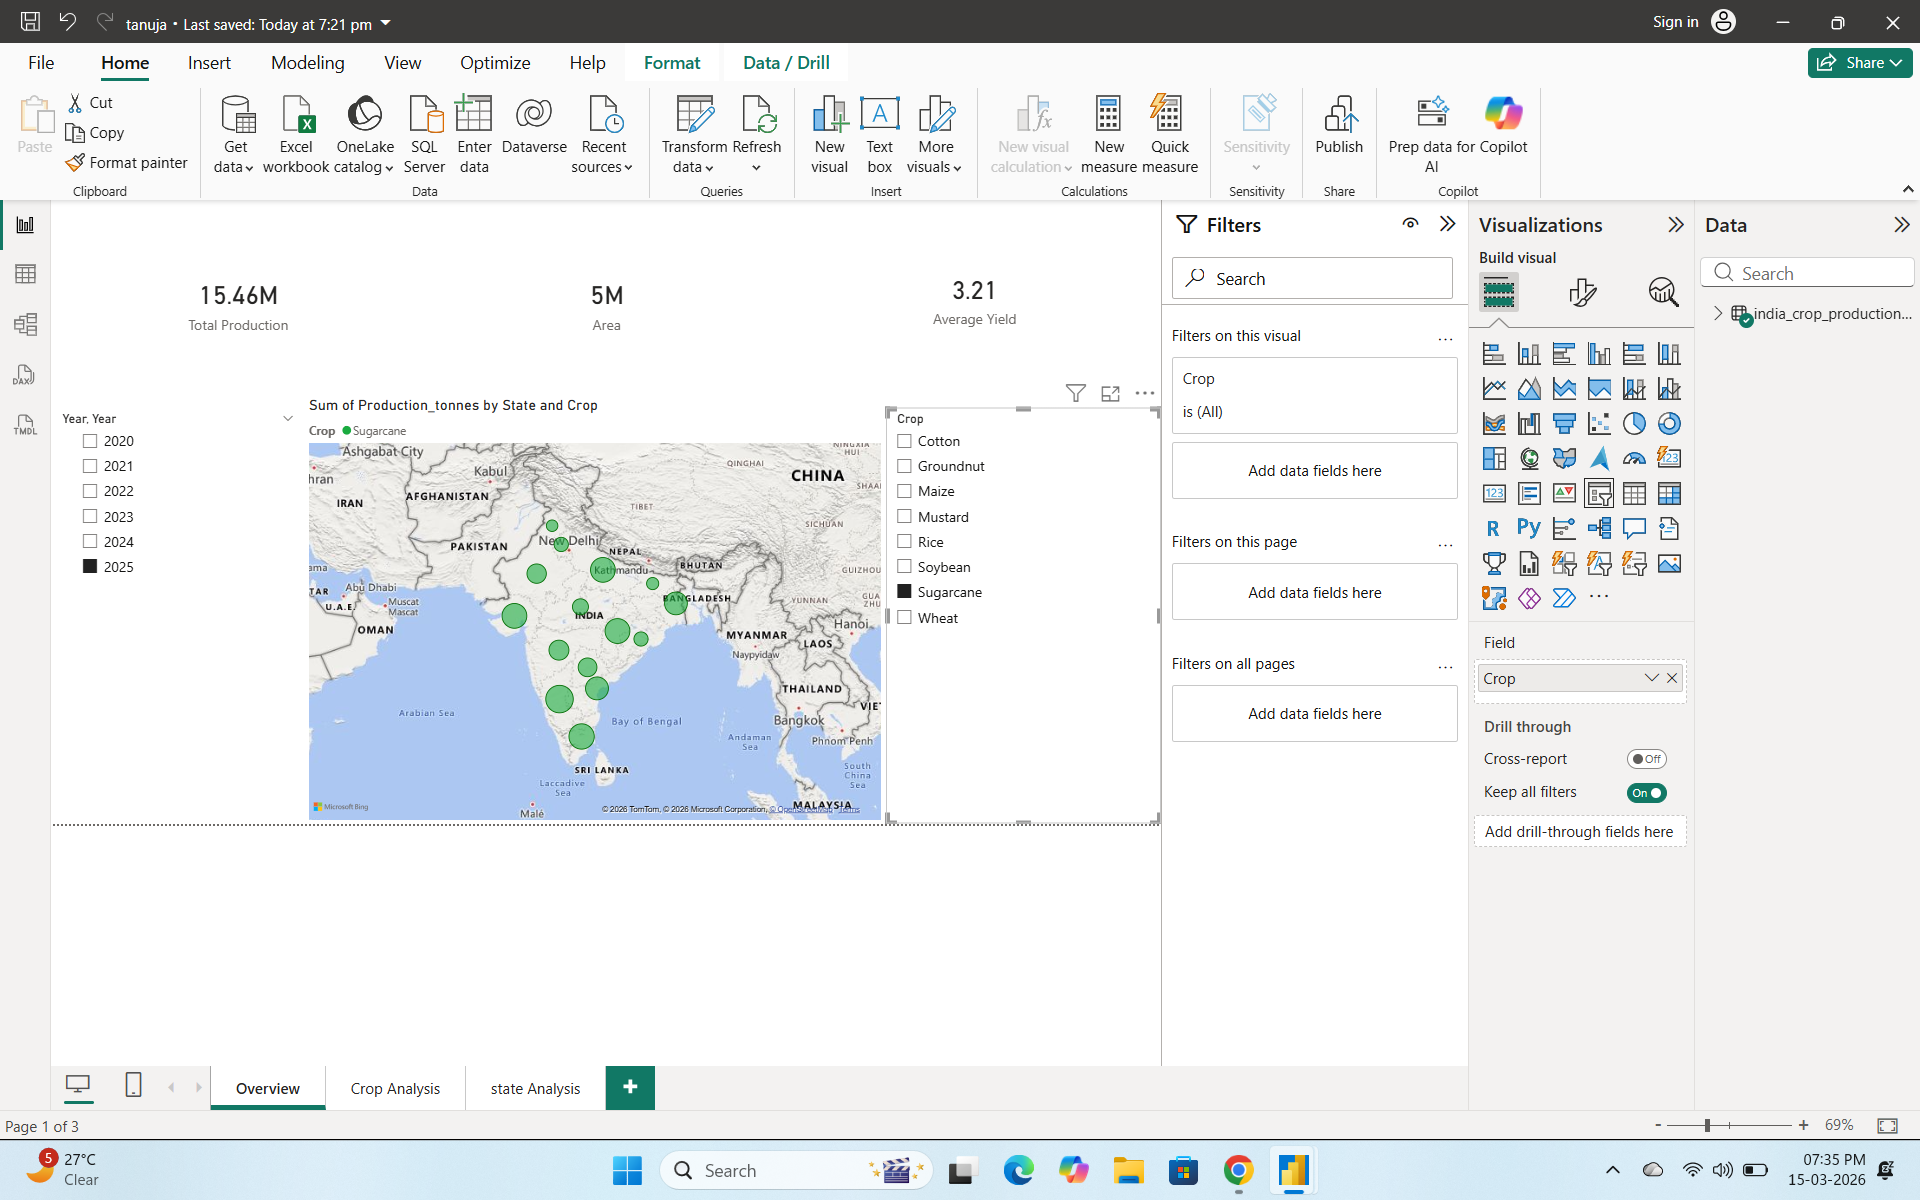

What the dashboard file says about the page in this screenshot:
{"tool":"powerbi","page":{"name":"Overview","canvas":[1280,720],"ordinal":0},"visuals":[{"type":"card","fields":{"Values":["india_crop_production_2020_2025.Total Production"]},"box":[0,0,432.2,238.8],"z":0},{"type":"card","fields":{"Values":["india_crop_production_2020_2025.Area"]},"box":[432.2,0,417.2,238.8],"z":1000},{"type":"map","fields":{"Category":["india_crop_production_2020_2025.State"],"Size":["Sum(india_crop_production_2020_2025.Production_tonnes)"],"Series":["india_crop_production_2020_2025.Crop"]},"box":[292.7,226.4,670.4,493.1],"z":2000},{"type":"card","fields":{"Values":["india_crop_production_2020_2025.Average Yield"]},"box":[850,0,430,225.7],"z":3000},{"type":"slicer","fields":{"Values":["india_crop_production_2020_2025.Year","india_crop_production_2020_2025.Year"]},"box":[0,239.3,292.7,480.1],"z":4000},{"type":"slicer","fields":{"Values":["india_crop_production_2020_2025.Crop"]},"box":[963.1,239.3,317.2,480.1],"z":5000}]}

Visuals, with their boxes on the page's 1280x720 design canvas (x1, y1, x2, y2). These are canvas units, not pixel positions in the 1920x1200 screenshot, which may show the page scaled, cropped or inside an application window:
card - india_crop_production_2020_2025.Total Production: {"left": 0, "top": 0, "right": 432, "bottom": 239}
card - india_crop_production_2020_2025.Area: {"left": 432, "top": 0, "right": 849, "bottom": 239}
map - india_crop_production_2020_2025.State x Sum(india_crop_production_2020_2025.Production_tonnes): {"left": 293, "top": 226, "right": 963, "bottom": 720}
card - india_crop_production_2020_2025.Average Yield: {"left": 850, "top": 0, "right": 1280, "bottom": 226}
slicer - india_crop_production_2020_2025.Year x india_crop_production_2020_2025.Year: {"left": 0, "top": 239, "right": 293, "bottom": 719}
slicer - india_crop_production_2020_2025.Crop: {"left": 963, "top": 239, "right": 1280, "bottom": 719}
